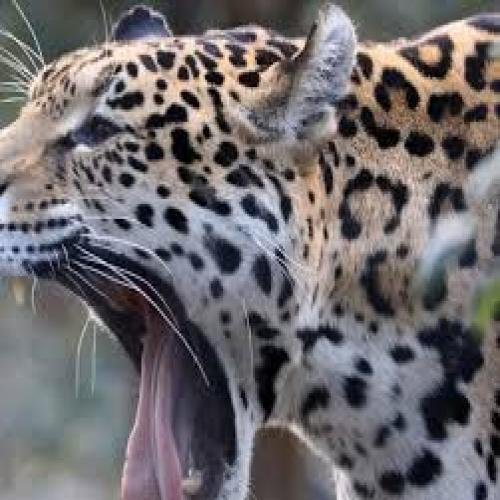jaguar_not-endangered: (10, 5, 488, 489)
